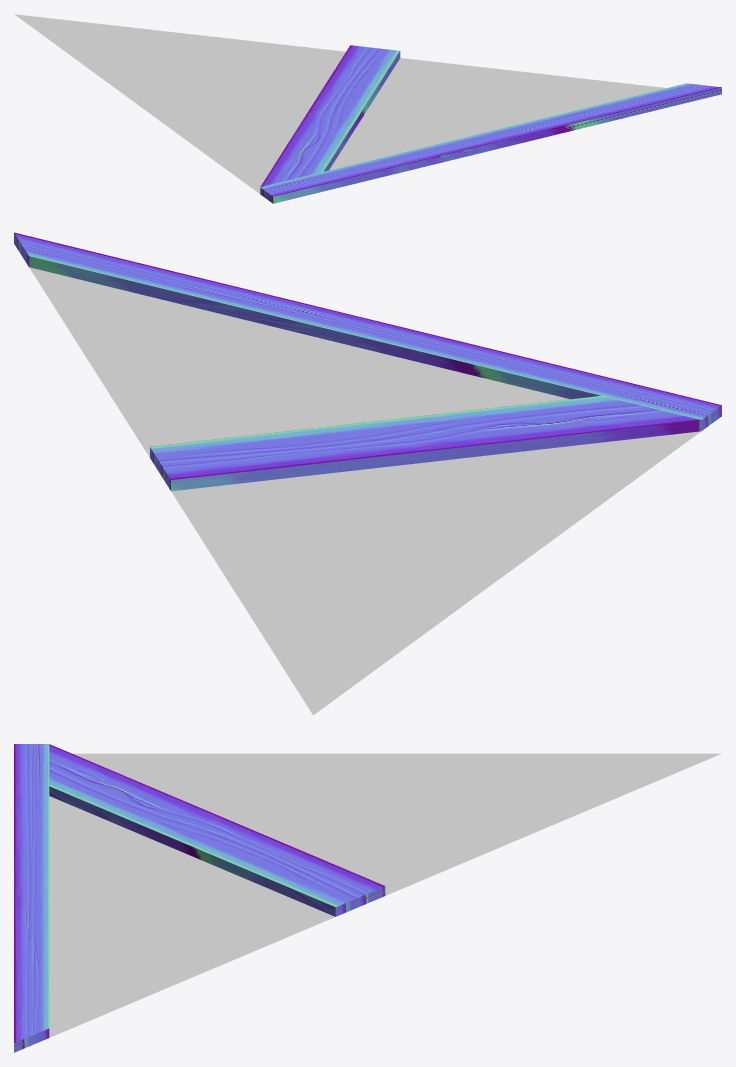
The model's file is SM_RoofWall_E.fbx.
The picture shows the model from 3 angles, top to bottom: view 1: azimuth 30°, elevation 25°; view 2: azimuth 150°, elevation 25°; view 3: azimuth 270°, elevation 25°; orthographic projection. The views are drawn at different scales.
Parts seen in each view (by area): view 1: SM_RoofWall_E; view 2: SM_RoofWall_E; view 3: SM_RoofWall_E.
Part boxes in pixels (x1,y1,x2,y2): SM_RoofWall_E: (14, 14, 721, 203); SM_RoofWall_E: (14, 232, 721, 715); SM_RoofWall_E: (14, 744, 721, 1052).
Size of the model in its own units: 200 by 3 by 200.
